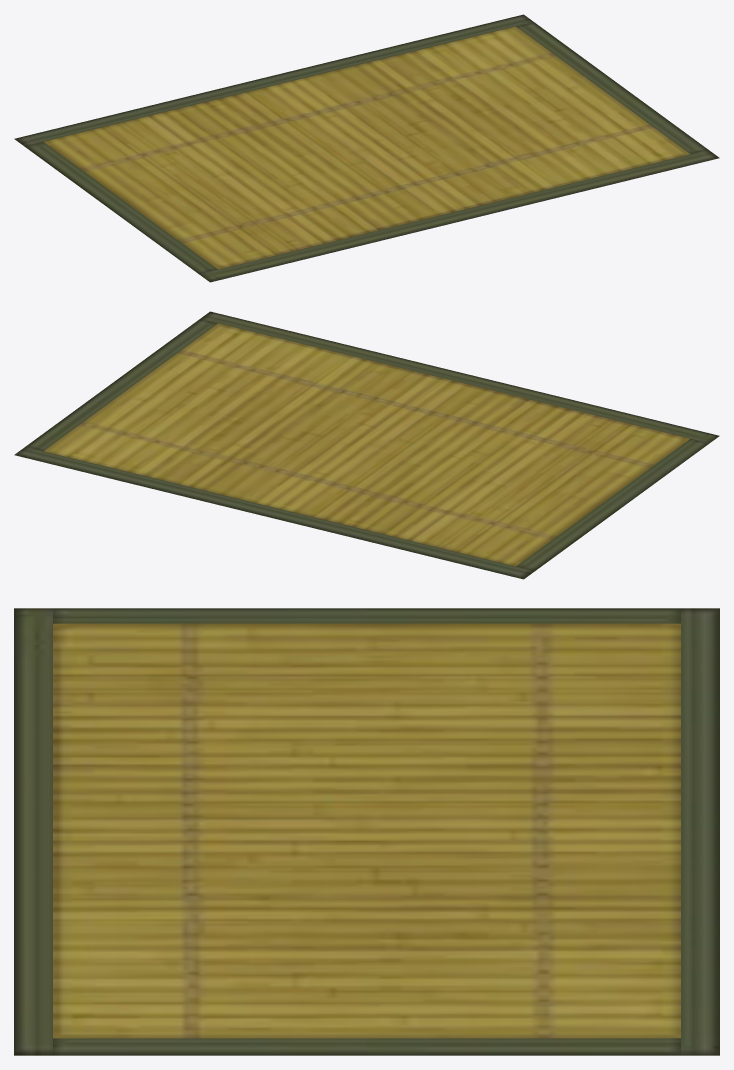
3 views of the same model, one above another, from view 1: azimuth 30°, elevation 25°; view 2: azimuth 150°, elevation 25°; view 3: azimuth 270°, elevation 25° (orthographic). The views are drawn at different scales.
Size of the model in its own units: 30 by 0.0293 by 20.
Materials: 1 (1 with a texture image).
